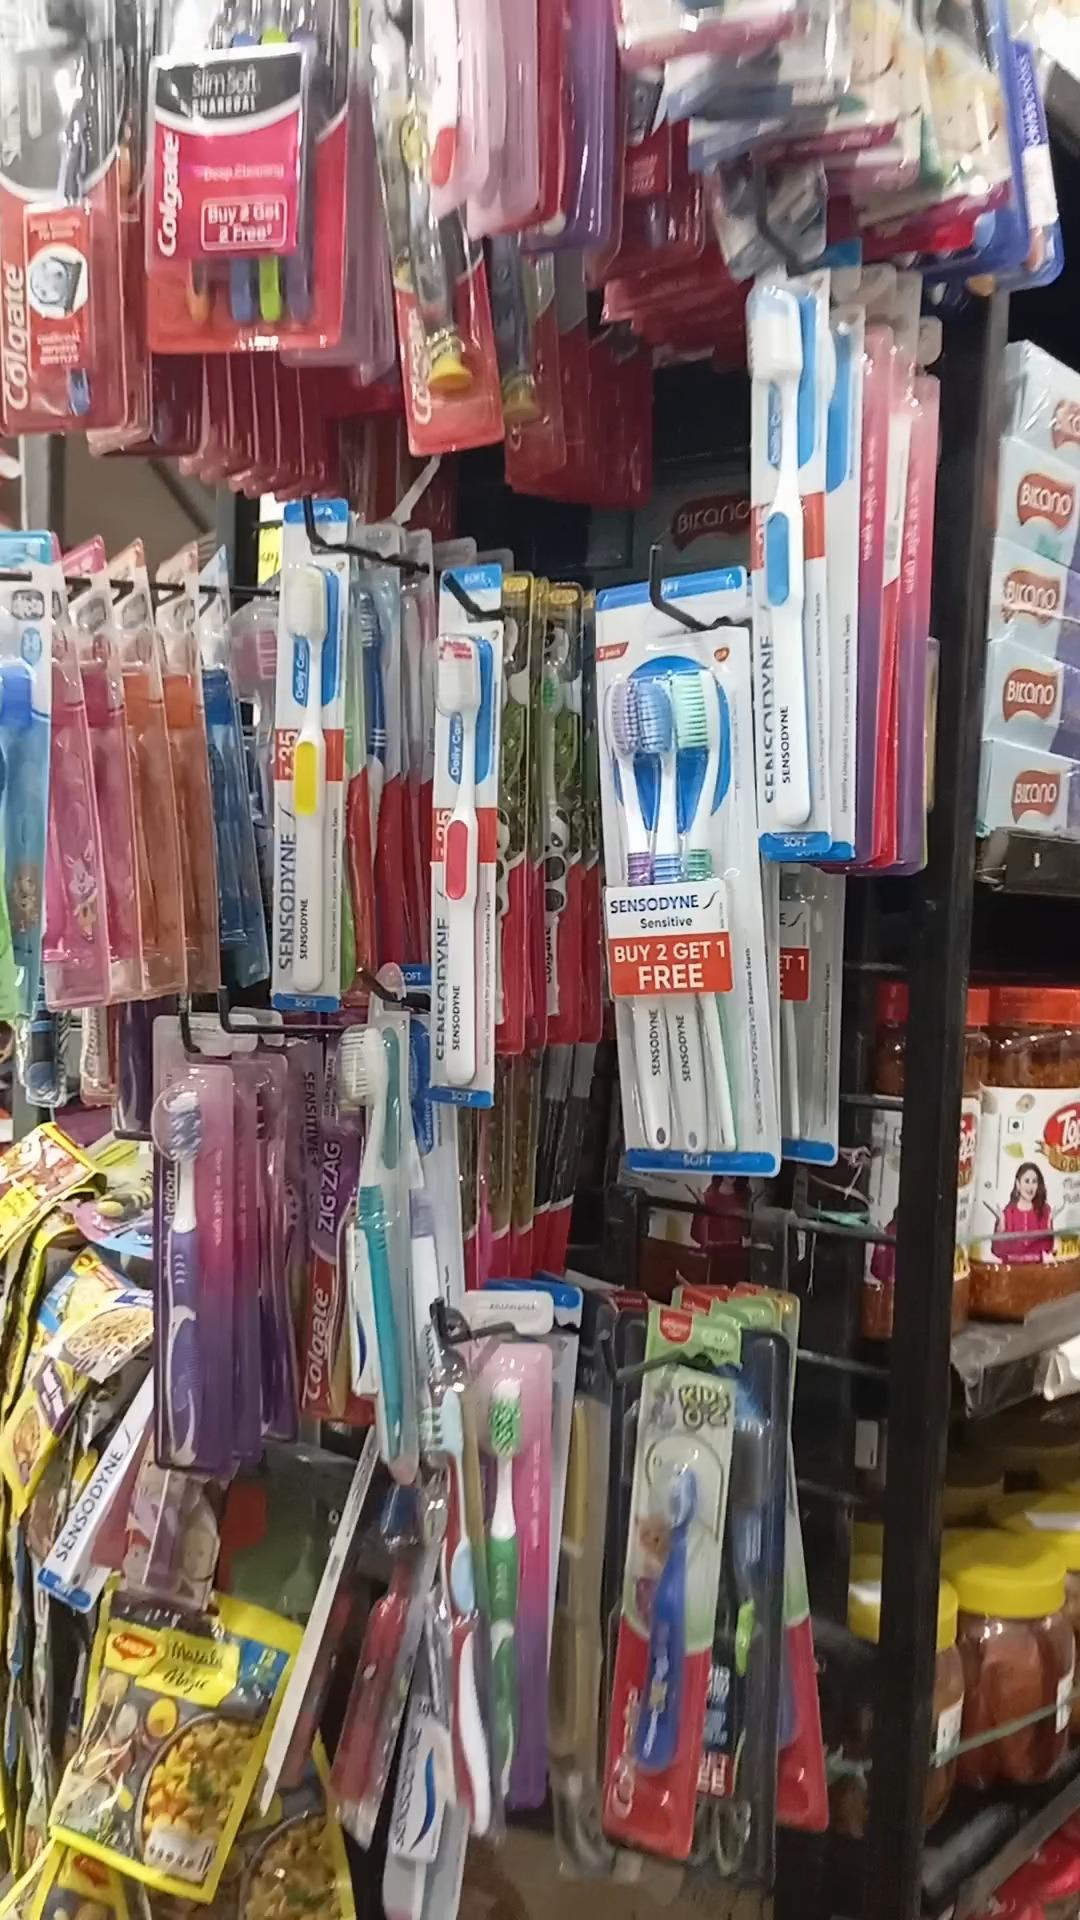15: (600, 580, 779, 1174)
soap: (0, 0, 124, 434)
